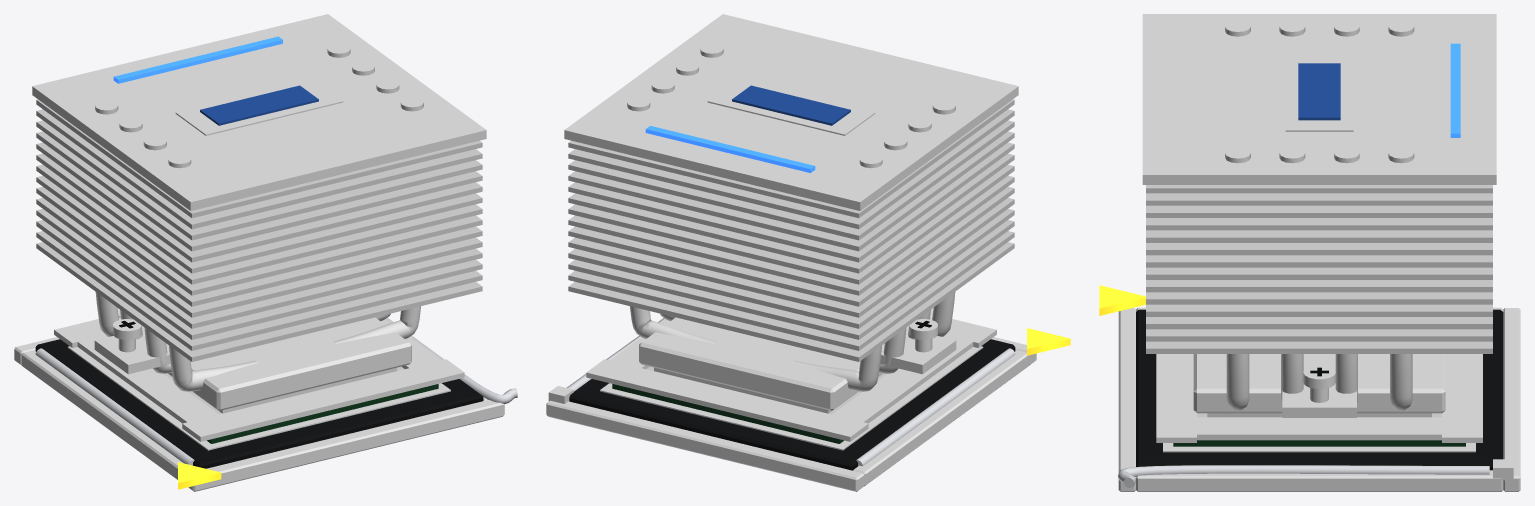
The model's file is hwm_cpu_xeon_32c.glb.
3 renders of one model, left to right at view 1: azimuth 30°, elevation 25°; view 2: azimuth 150°, elevation 25°; view 3: azimuth 270°, elevation 25°, orthographic. The views are drawn at different scales.
Visible parts, largest first — view 1: Cooler, Socket, Frame, CPU, Screw_0, Lever; view 2: Cooler, Socket, Frame, CPU, Screw_0; view 3: Cooler, Socket, Frame, Lever, CPU, Screw_1.
Part boxes in pixels (x1=…): Cooler: x1=32, y1=14, x2=486, y2=410; Socket: x1=14, y1=320, x2=504, y2=491; Frame: x1=54, y1=319, x2=464, y2=441; CPU: x1=164, y1=366, x2=438, y2=443; Screw_0: x1=113, y1=319, x2=141, y2=352; Lever: x1=385, y1=317, x2=517, y2=403; Cooler: x1=564, y1=14, x2=1018, y2=410; Socket: x1=546, y1=317, x2=1070, y2=491; Frame: x1=586, y1=319, x2=996, y2=441; CPU: x1=612, y1=366, x2=886, y2=443; Screw_0: x1=909, y1=319, x2=937, y2=352; Cooler: x1=1142, y1=14, x2=1496, y2=417; Socket: x1=1099, y1=285, x2=1520, y2=491; Frame: x1=1156, y1=354, x2=1482, y2=442; Lever: x1=1118, y1=465, x2=1489, y2=487; CPU: x1=1173, y1=413, x2=1465, y2=446; Screw_1: x1=1303, y1=365, x2=1335, y2=402.
Bounding box in the file's own units: 0.1338 × 0.1035 × 0.1239.
